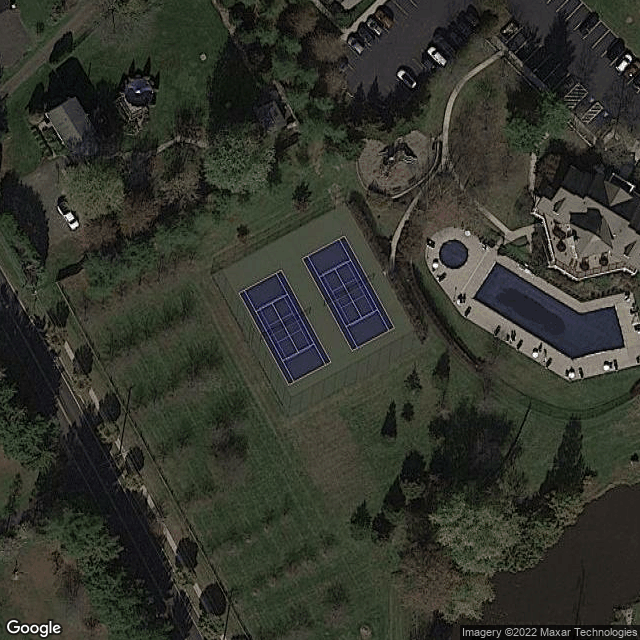Court: (300, 235, 397, 352), (238, 269, 332, 386)
